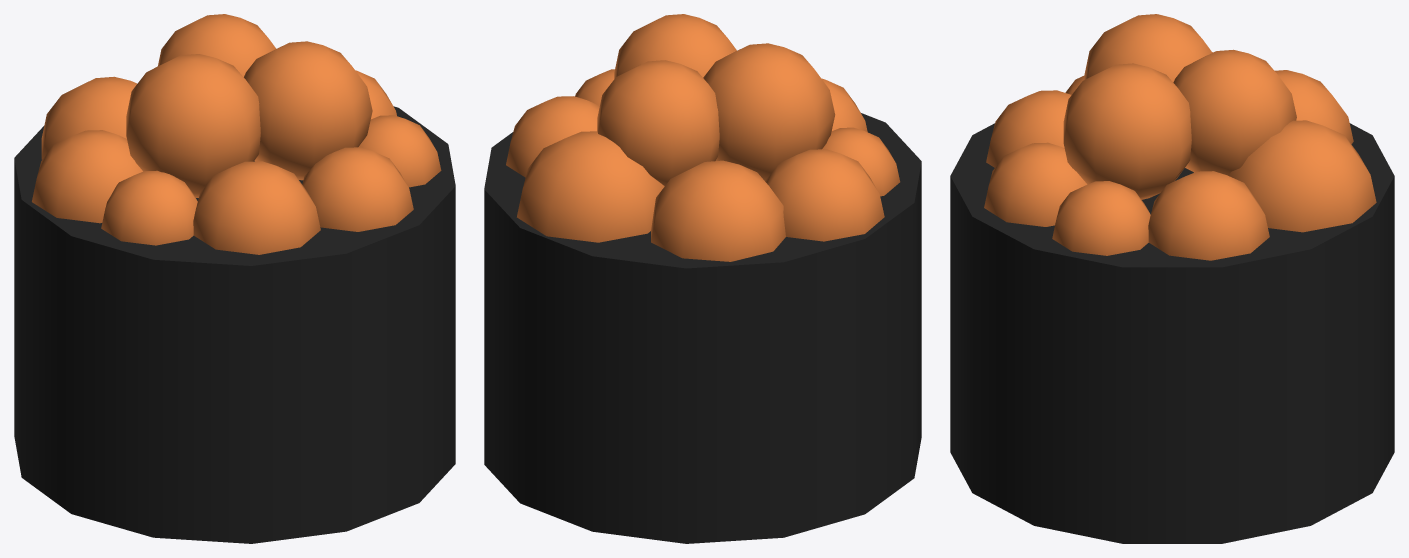
File: sea-urchin-roll.glb
3 views of the same model, side by side, from view 1: azimuth 30°, elevation 25°; view 2: azimuth 150°, elevation 25°; view 3: azimuth 270°, elevation 25° (orthographic).
Visible parts, largest first — view 1: Food_SeaUrchinRoll; view 2: Food_SeaUrchinRoll; view 3: Food_SeaUrchinRoll.
Part boxes in pixels (box(x1,y1,x2,y2)): Food_SeaUrchinRoll: box(14, 14, 455, 543); Food_SeaUrchinRoll: box(484, 14, 921, 543); Food_SeaUrchinRoll: box(950, 14, 1394, 543).
Size of the model in its own units: 0.4928 by 0.5114 by 0.5055.
1 material, 1 textured.
